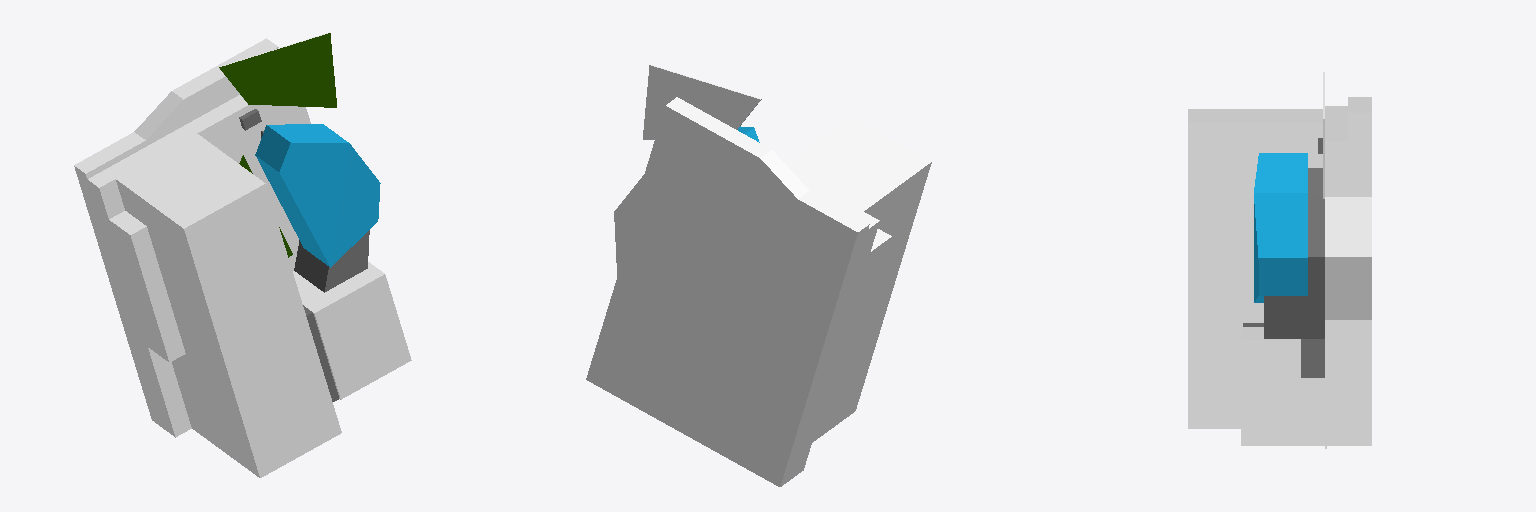
Rendered from Site9-Bldg.obj.
The picture shows the model from 3 angles: view 1: azimuth 30°, elevation 25°; view 2: azimuth 150°, elevation 25°; view 3: azimuth 270°, elevation 25°; orthographic projection.
Size of the model in its own units: 248 by 320 by 145.